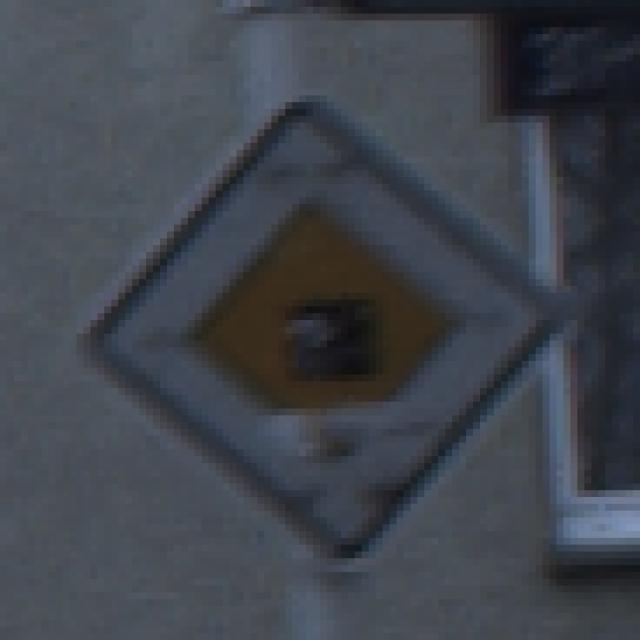Main Road: (57, 62, 585, 587)
